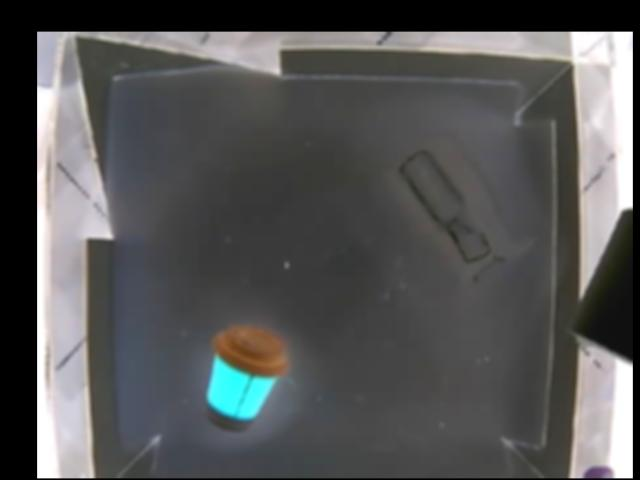Bottle: (387, 139, 529, 281)
Cup: (203, 324, 286, 430)
